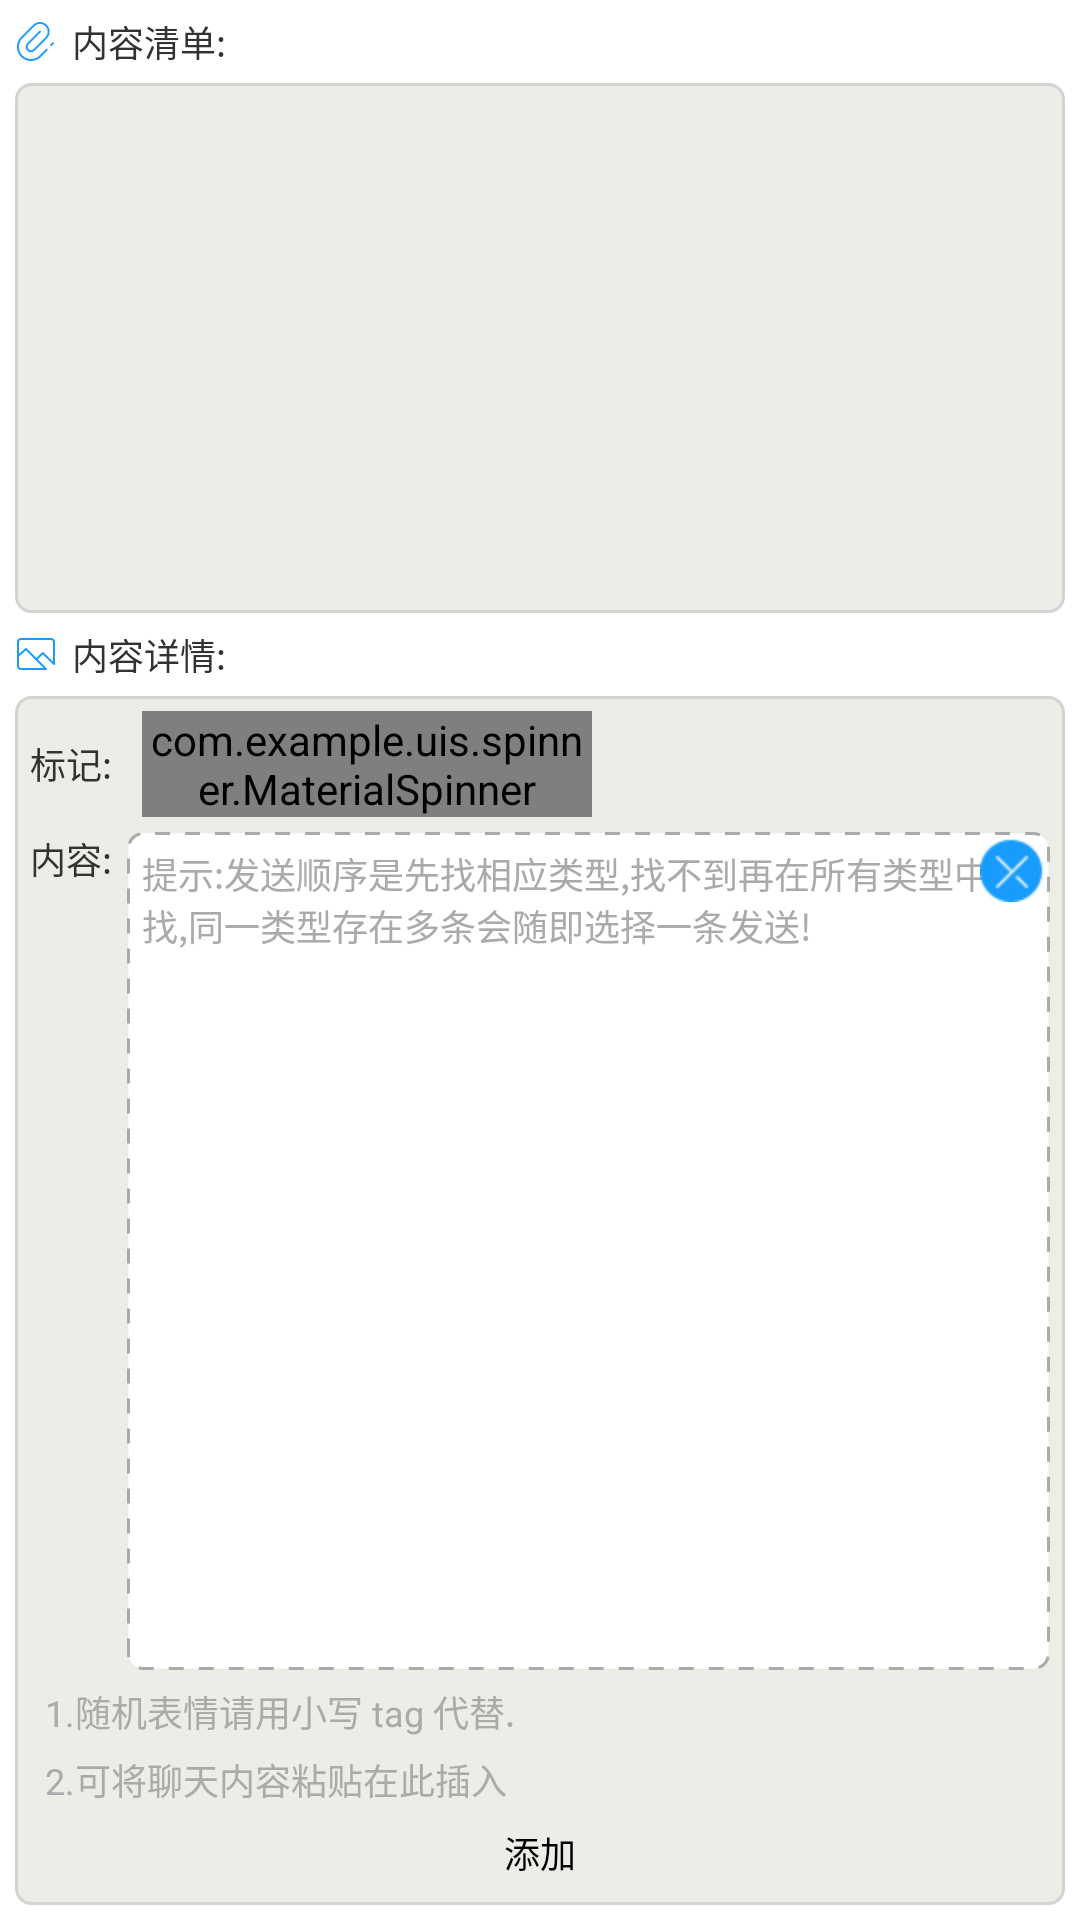

Icons on this 1080px×1920px Android screen, each with its box as (x1, y1, x2, y2):
edit clear: (980, 839, 1043, 902)
